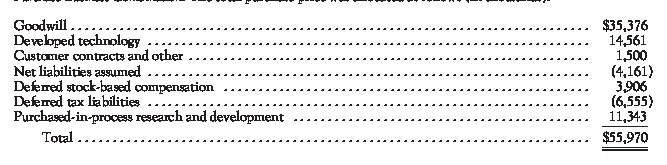table: (0, 0, 667, 165)
